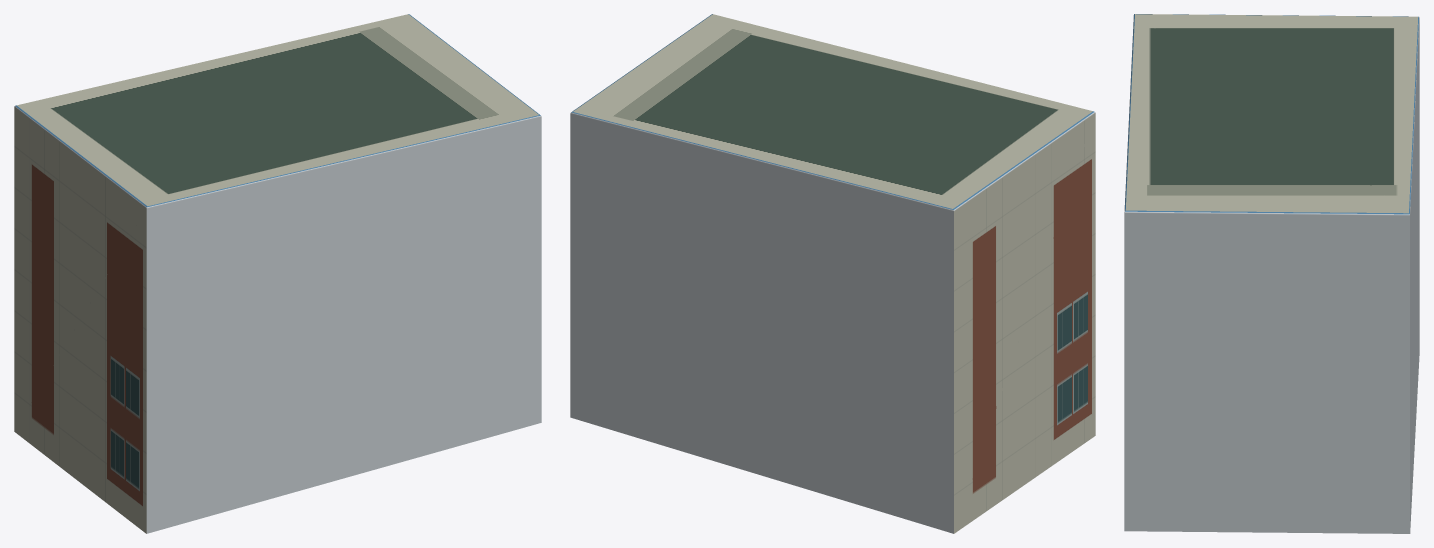
Rendered from intact.glb.
3 views of the same model, side by side, from view 1: azimuth 30°, elevation 25°; view 2: azimuth 150°, elevation 25°; view 3: azimuth 270°, elevation 25° (orthographic). The views are drawn at different scales.
Parts seen in each view (by area): view 1: SM_safety_Intact_00; view 2: SM_safety_Intact_00; view 3: SM_safety_Intact_00.
Boxes of the visible parts, x1=… form: SM_safety_Intact_00: x1=14, y1=14, x2=541, y2=533; SM_safety_Intact_00: x1=570, y1=14, x2=1095, y2=533; SM_safety_Intact_00: x1=1124, y1=14, x2=1419, y2=533.
Bounding box in the file's own units: 2.2 × 1.74 × 1.37.
Materials: 3 (1 with a texture image).
